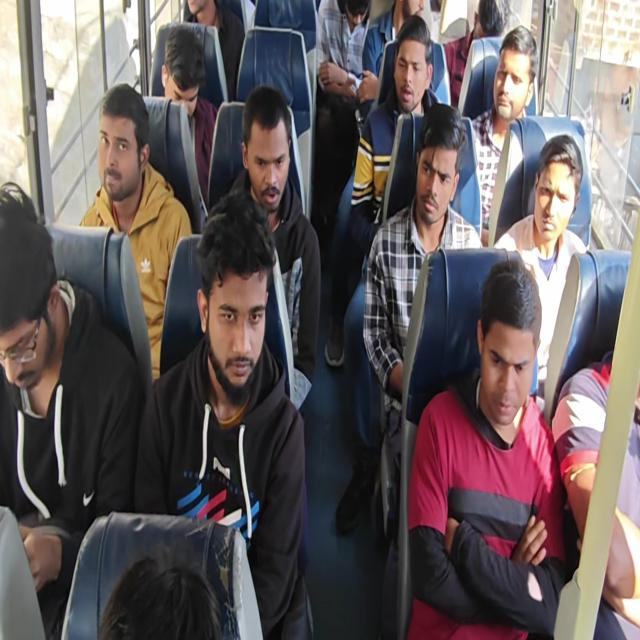person: (1, 1, 637, 638), (133, 190, 314, 638), (0, 181, 143, 637), (406, 258, 567, 638), (362, 101, 483, 538), (78, 82, 192, 382), (226, 84, 321, 412), (493, 133, 589, 405), (552, 350, 640, 638), (350, 14, 444, 258), (468, 24, 538, 244), (311, 0, 373, 236), (160, 23, 218, 210), (97, 555, 223, 639), (443, 0, 509, 110), (183, 0, 245, 102), (315, 0, 371, 104), (361, 0, 432, 81)
